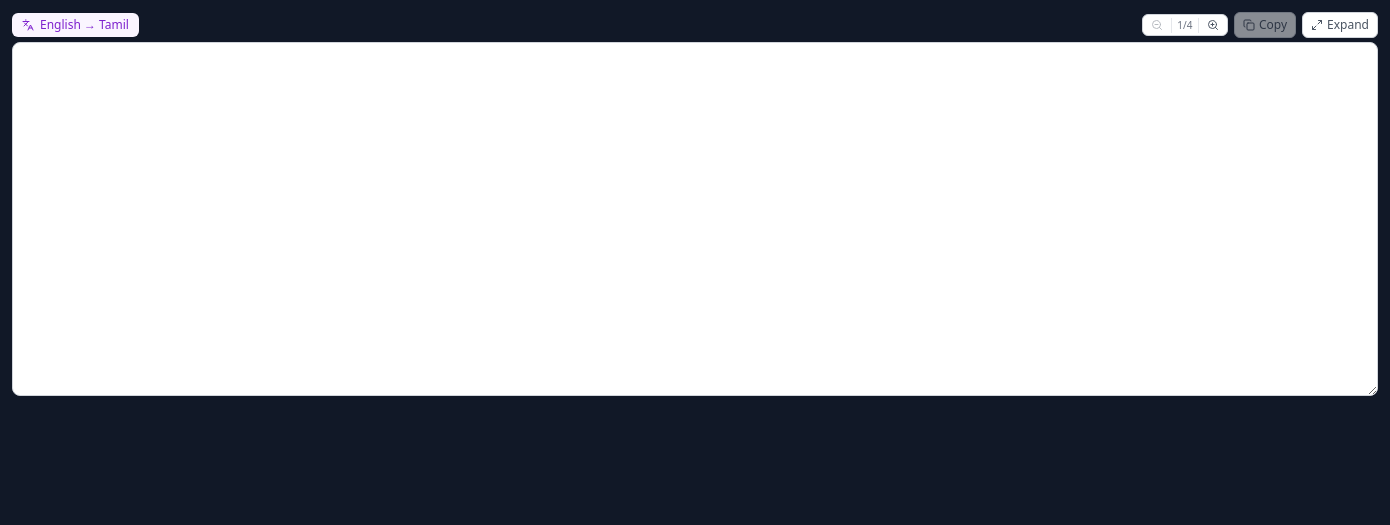
Test case: LyricDraftEditor › zoom › grows the textarea font when Increase text size is clicked
Click the button named "increase text size" at (1213, 25), box [1199,15,1227,35]
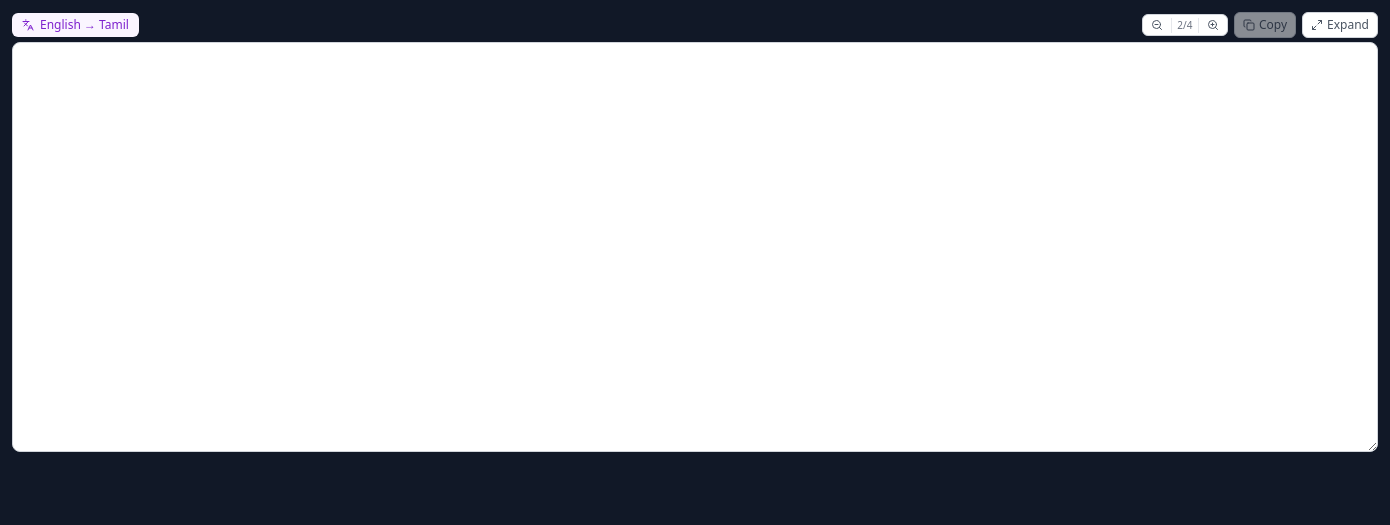
Result: the text "2/4" is shown at [1171,18,1199,32]
Twice more — should end at text-2xl (the 4/4 cap).
Click the button named "increase text size" at (1213, 25), box [1199,15,1227,35]
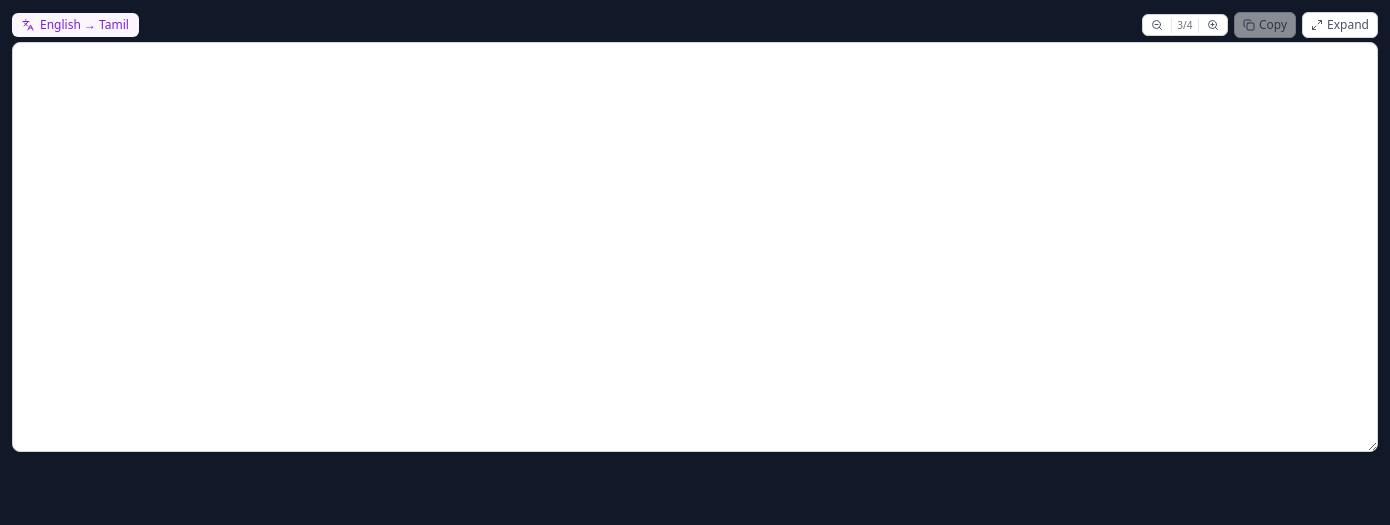
Click the button named "increase text size" at (1213, 25), box [1199,15,1227,35]
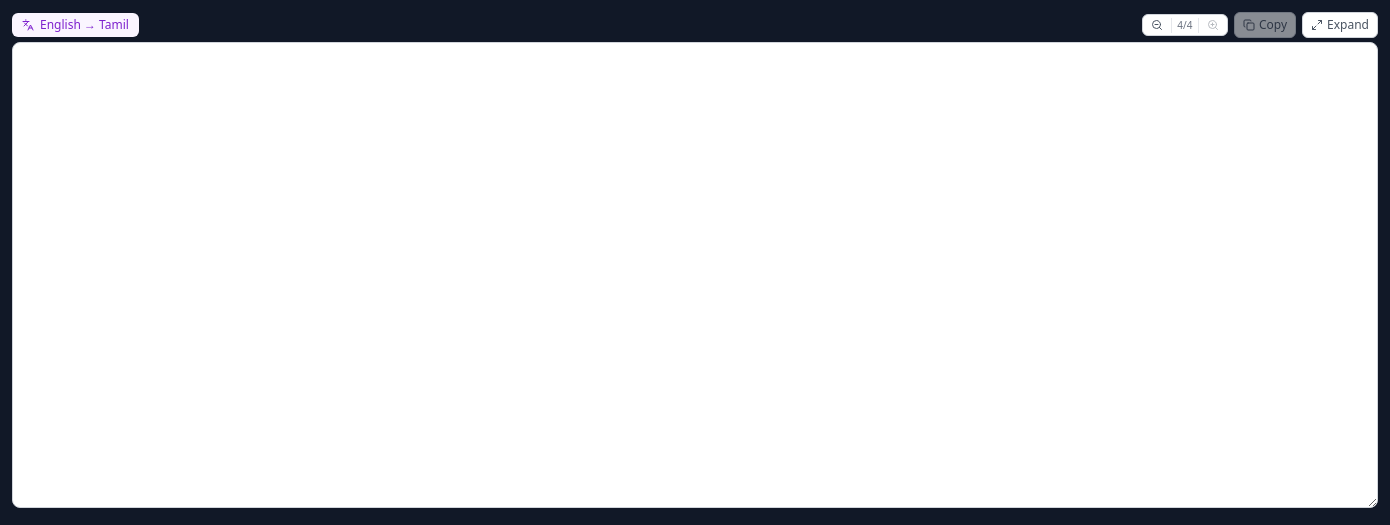
Result: the text "4/4" is shown at [1171,18,1199,32]
Result: the button named "increase text size" is disabled at [1199,15,1227,35]
